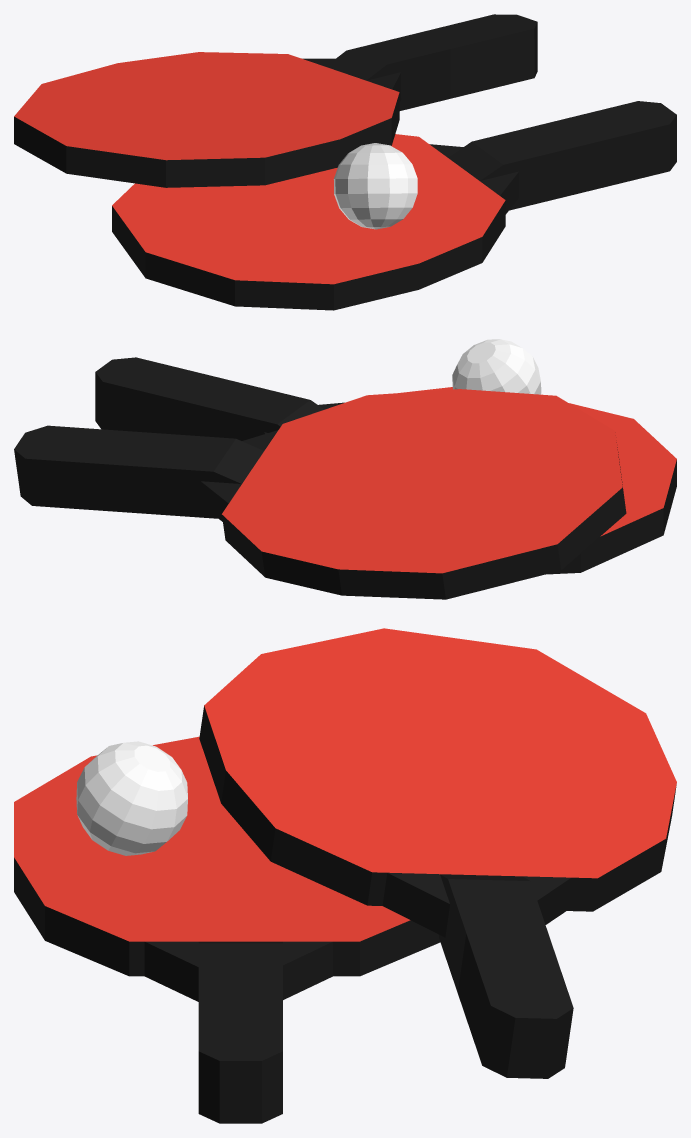
The model's file is ping-pong-paddles.glb.
The picture shows the model from 3 angles, top to bottom: view 1: azimuth 30°, elevation 25°; view 2: azimuth 150°, elevation 25°; view 3: azimuth 270°, elevation 25°; orthographic projection. The views are drawn at different scales.
Visible parts, largest first — view 1: Node; view 2: Node; view 3: Node.
Boxes of the visible parts, x1,y1,x2,y2 form: Node: (14,14,676,310); Node: (14,339,676,599); Node: (14,628,676,1123).
Size of the model in its own units: 1.1 by 0.2296 by 0.8624.
